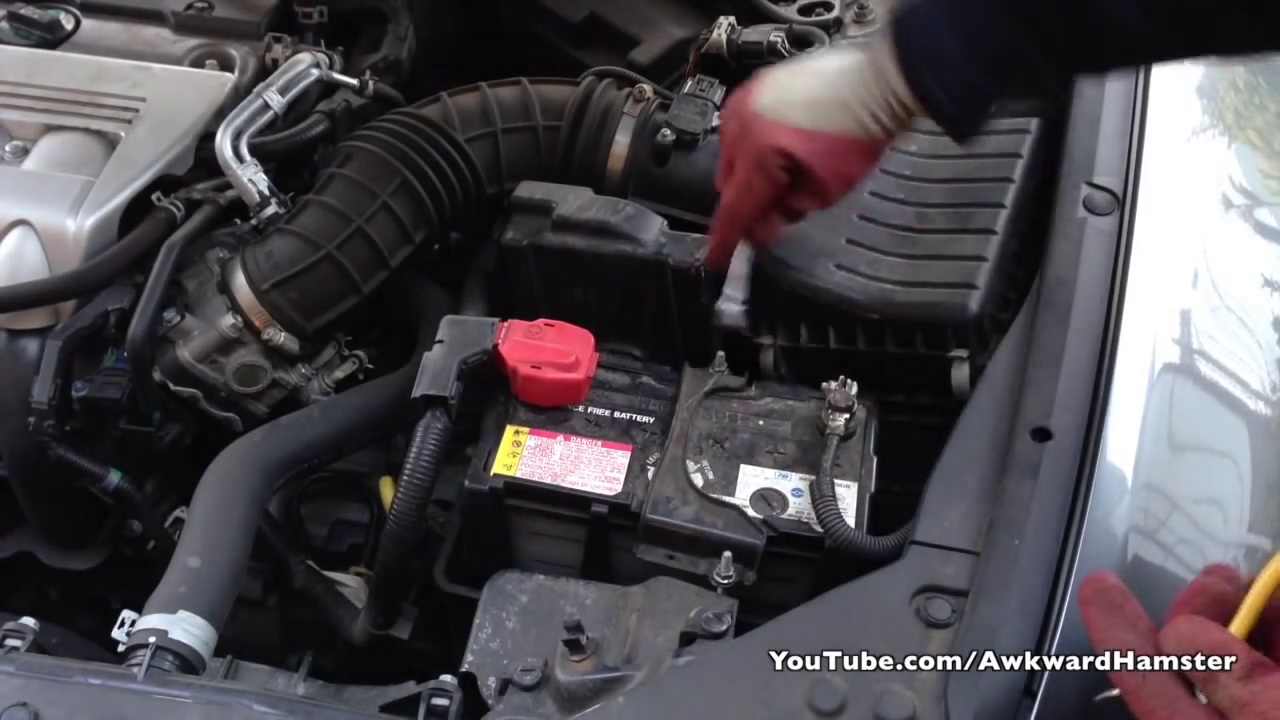battery: (458, 324, 869, 549)
neg_connected: (795, 346, 882, 482)
pos_connected: (430, 292, 599, 419)
